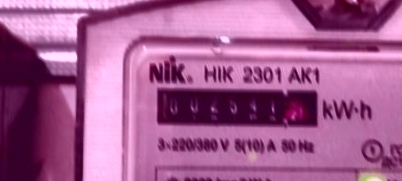0: (168, 92, 181, 113), (189, 90, 202, 111)
1: (268, 93, 279, 113)
2: (209, 92, 221, 112)
4: (249, 92, 261, 113)
5: (228, 91, 240, 113)
6: (290, 105, 301, 121)
screen: (148, 76, 331, 134)
